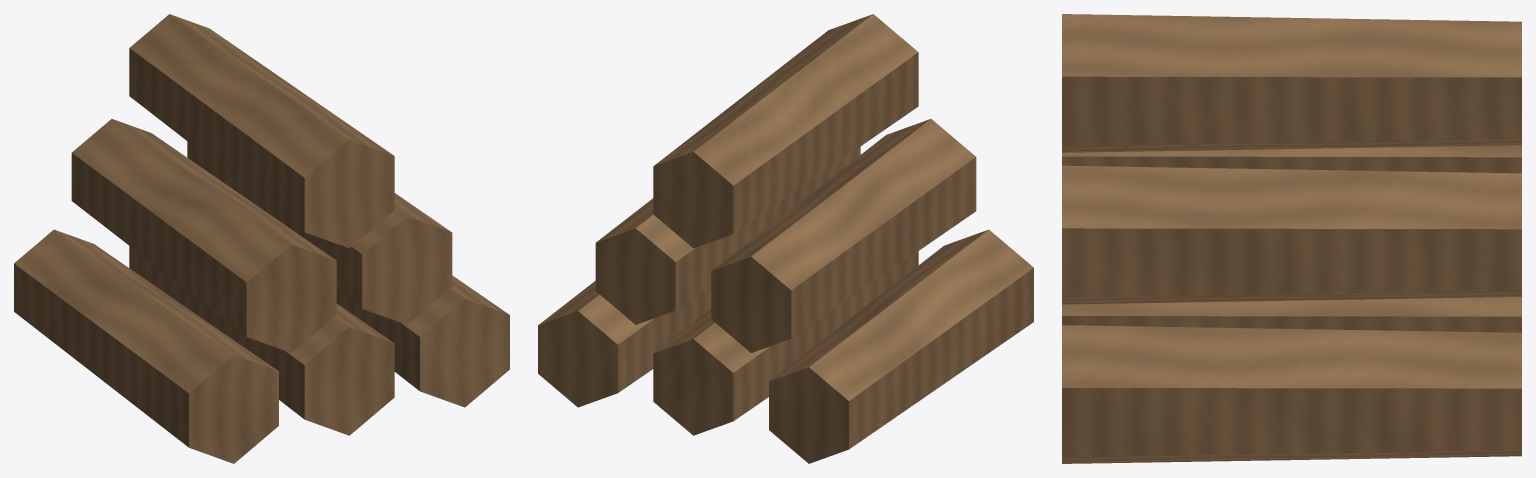
The model's file is firewood_stack.glb.
The picture shows the model from 3 angles, left to right: view 1: azimuth 30°, elevation 25°; view 2: azimuth 150°, elevation 25°; view 3: azimuth 270°, elevation 25°; orthographic projection. The views are drawn at different scales.
Parts seen in each view (by area): view 1: firewood_stack; view 2: firewood_stack; view 3: firewood_stack.
Boxes of the visible parts, x1,y1,x2,y2 form: firewood_stack: [14, 14, 509, 463]; firewood_stack: [538, 14, 1033, 463]; firewood_stack: [1062, 14, 1521, 463].
Size of the model in its own units: 0.5559 by 0.49 by 0.54.
Materials: 1 (1 with a texture image).
